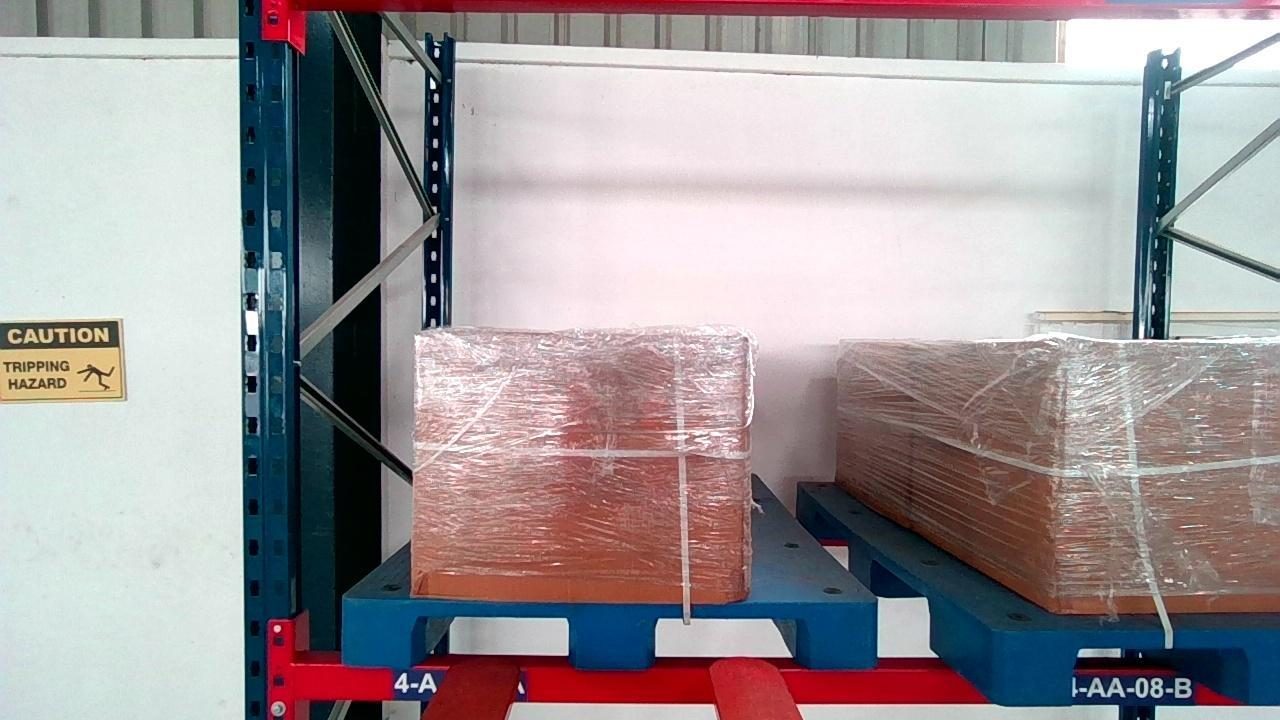h_rack: (297, 664, 1229, 706)
small_pallet: (344, 598, 877, 670), (1005, 627, 1279, 707)
